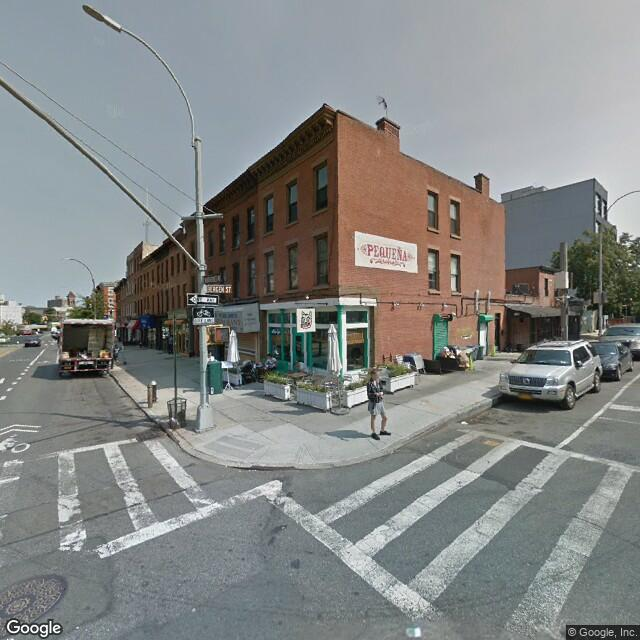litter: (447, 412, 475, 434)
